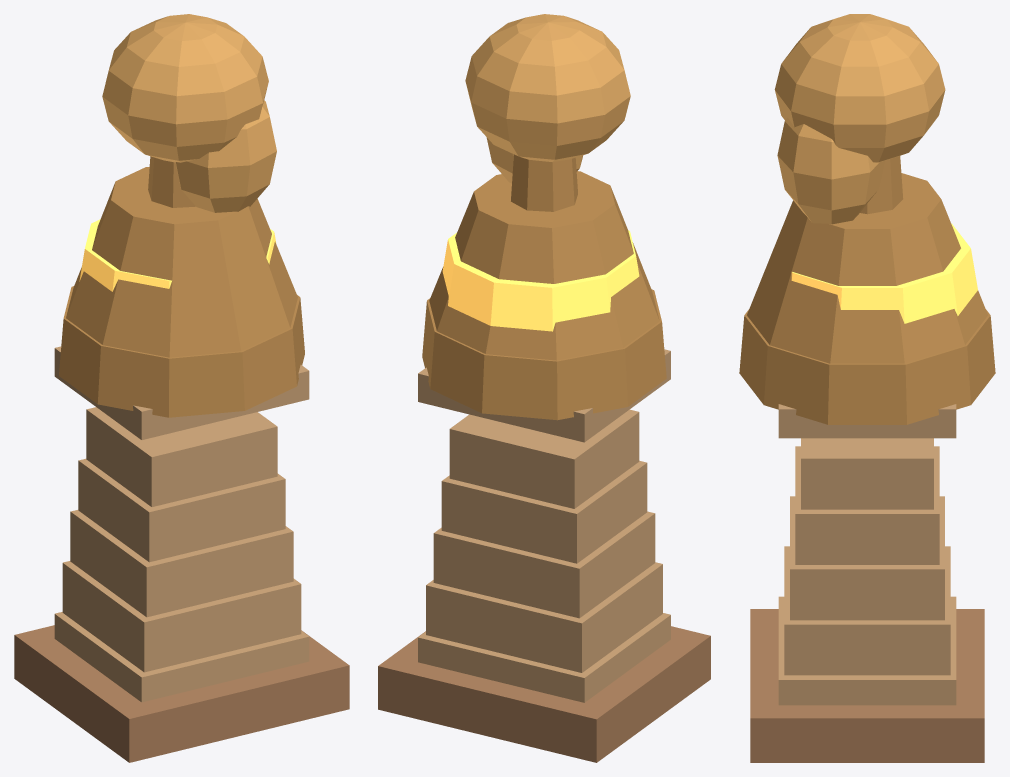
Rendered from dalida_bust.glb.
3 renders of one model, left to right at view 1: azimuth 30°, elevation 25°; view 2: azimuth 150°, elevation 25°; view 3: azimuth 270°, elevation 25°, orthographic. The views are drawn at different scales.
Visible parts, largest first — view 1: dalida_bust; view 2: dalida_bust; view 3: dalida_bust.
Boxes of the visible parts, <box> form: dalida_bust: <box>14,14,349,762</box>; dalida_bust: <box>378,14,710,762</box>; dalida_bust: <box>739,14,995,762</box>.
Size of the model in its own units: 1.13 by 3.32 by 1.12.
